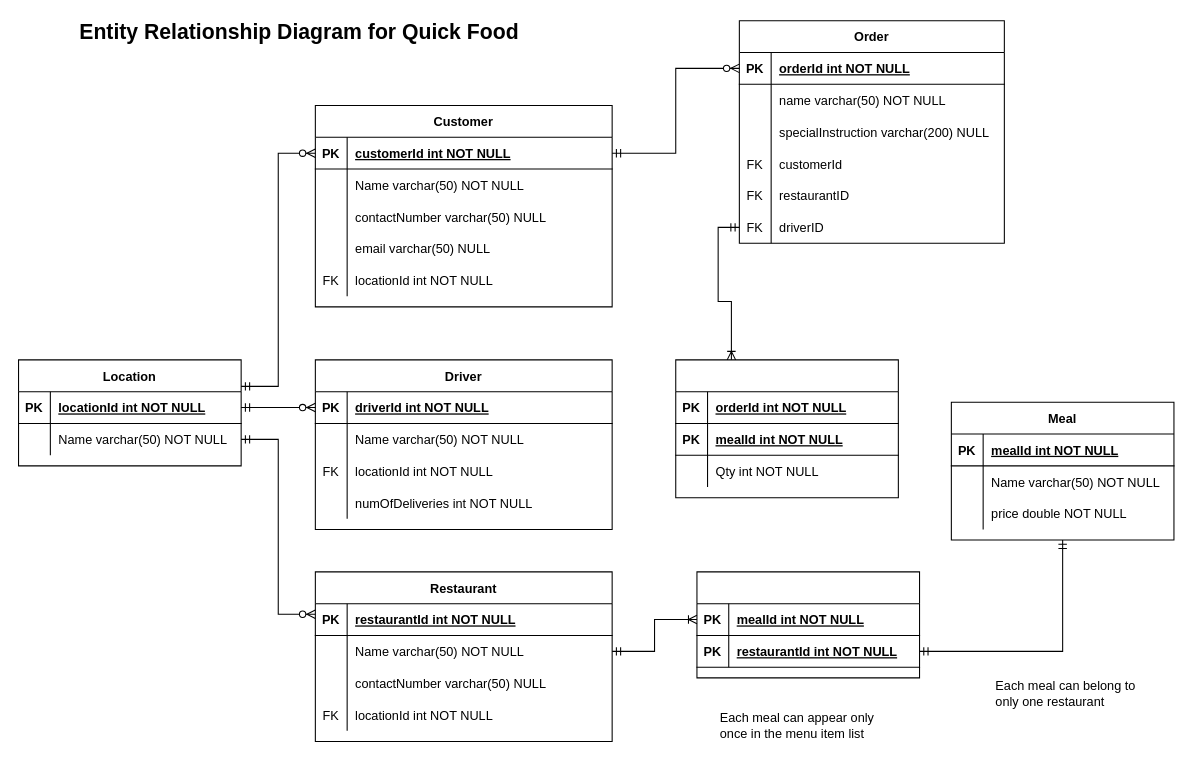
This 1192x780 diagram has some shape labels left out. Each missing label, with the box of its shape:
MealListItem: (675, 359, 898, 498)
MenuItem: (696, 571, 920, 678)
